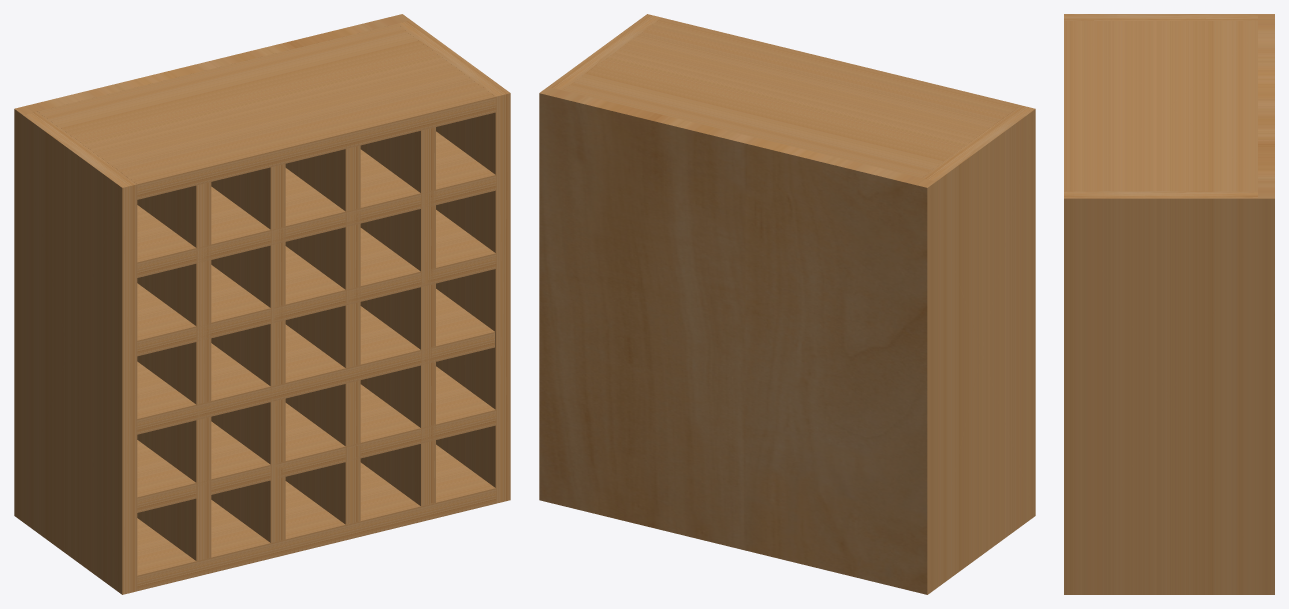
Rendered from sweethome3d-contributions-bottles-rack.glb.
3 renders of one model, left to right at view 1: azimuth 30°, elevation 25°; view 2: azimuth 150°, elevation 25°; view 3: azimuth 270°, elevation 25°, orthographic. The views are drawn at different scales.
Parts seen in each view (by area): view 1: Cube_1; view 2: Cube_1; view 3: Cube_1.
Boxes of the visible parts, bbox=[...] form: Cube_1: bbox=[14, 14, 510, 594]; Cube_1: bbox=[539, 14, 1035, 594]; Cube_1: bbox=[1064, 14, 1274, 594].
Size of the model in its own units: 51.92 by 52.01 by 25.05.
Materials: 1 (1 with a texture image).
